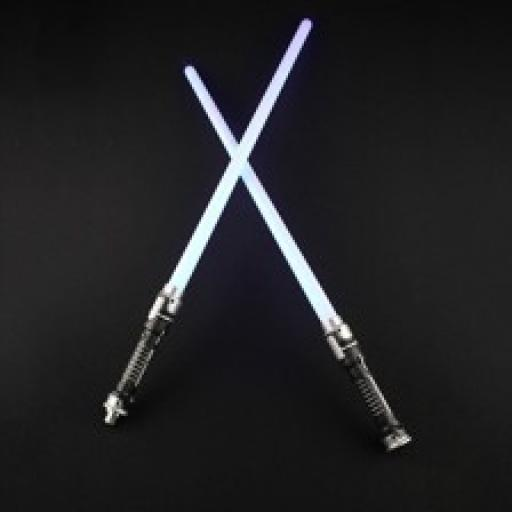lightsaber: (184, 64, 412, 449), (105, 20, 312, 424)
